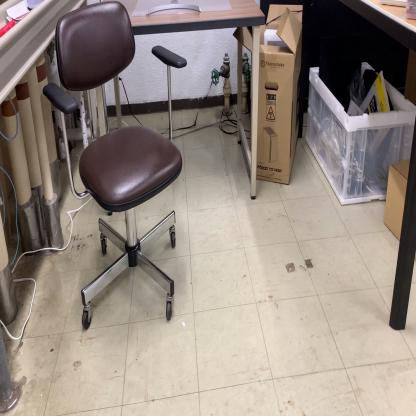chair: (42, 2, 188, 328)
